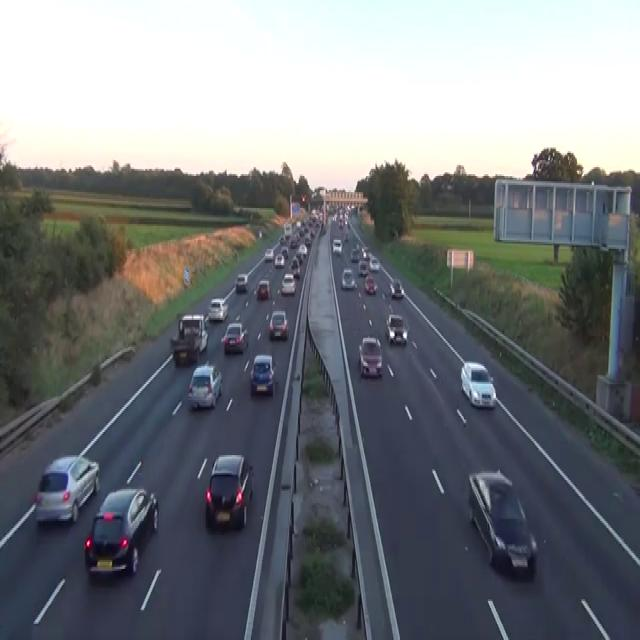Car: (467, 468, 537, 574), (84, 487, 159, 578), (34, 454, 100, 524), (205, 453, 253, 530), (460, 361, 496, 409), (187, 363, 222, 409), (249, 354, 275, 394), (358, 336, 382, 377), (172, 330, 199, 364), (221, 322, 248, 354), (385, 313, 408, 345), (269, 310, 288, 340), (208, 297, 228, 322), (341, 266, 356, 290), (389, 277, 404, 299), (256, 277, 271, 299), (281, 272, 295, 295), (364, 274, 377, 293), (235, 274, 248, 292), (290, 258, 300, 277), (357, 260, 368, 276), (332, 237, 342, 254), (369, 256, 379, 270), (274, 252, 284, 266), (350, 247, 359, 261), (297, 244, 307, 256), (264, 247, 273, 260), (361, 246, 369, 260), (281, 245, 289, 258), (295, 251, 303, 263), (289, 237, 297, 247), (279, 235, 286, 245), (304, 235, 311, 245), (321, 222, 326, 233), (338, 217, 343, 227), (344, 233, 349, 242), (258, 228, 262, 238), (296, 220, 301, 228), (300, 194, 305, 202)
Truck: (169, 313, 208, 364)
